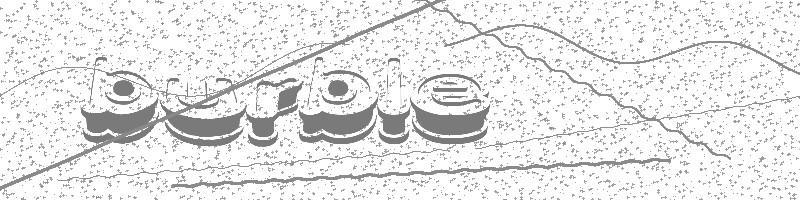b: (80, 53, 159, 144), (301, 56, 379, 145)
e: (412, 70, 490, 144)
l: (376, 55, 411, 145)
r: (249, 77, 302, 147)
u: (161, 73, 247, 148)
